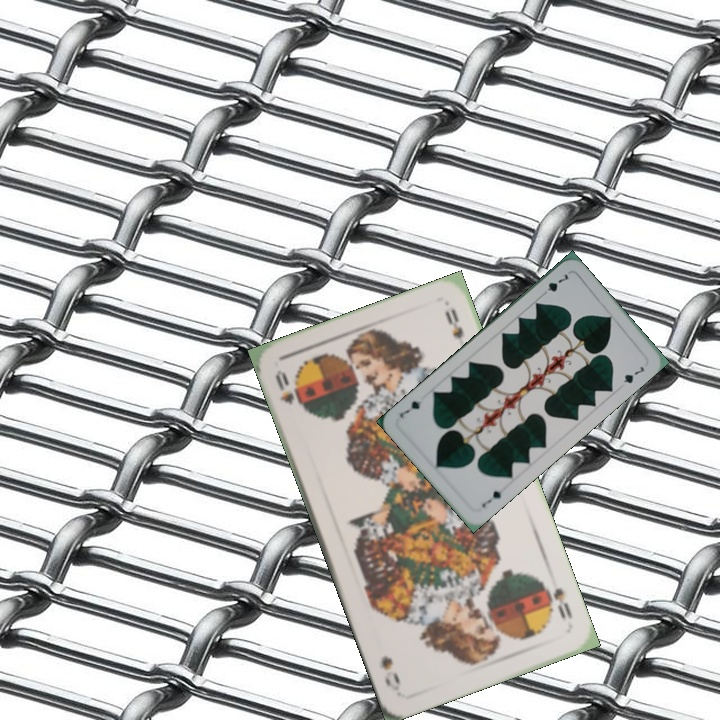G7: (538, 269, 571, 299), (478, 487, 504, 511)
SO: (271, 365, 297, 407), (549, 583, 575, 623)
